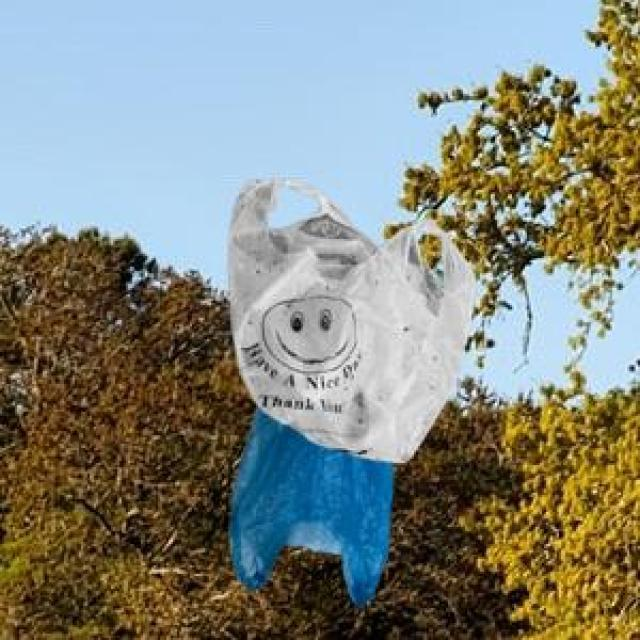waste: (230, 181, 476, 606)
